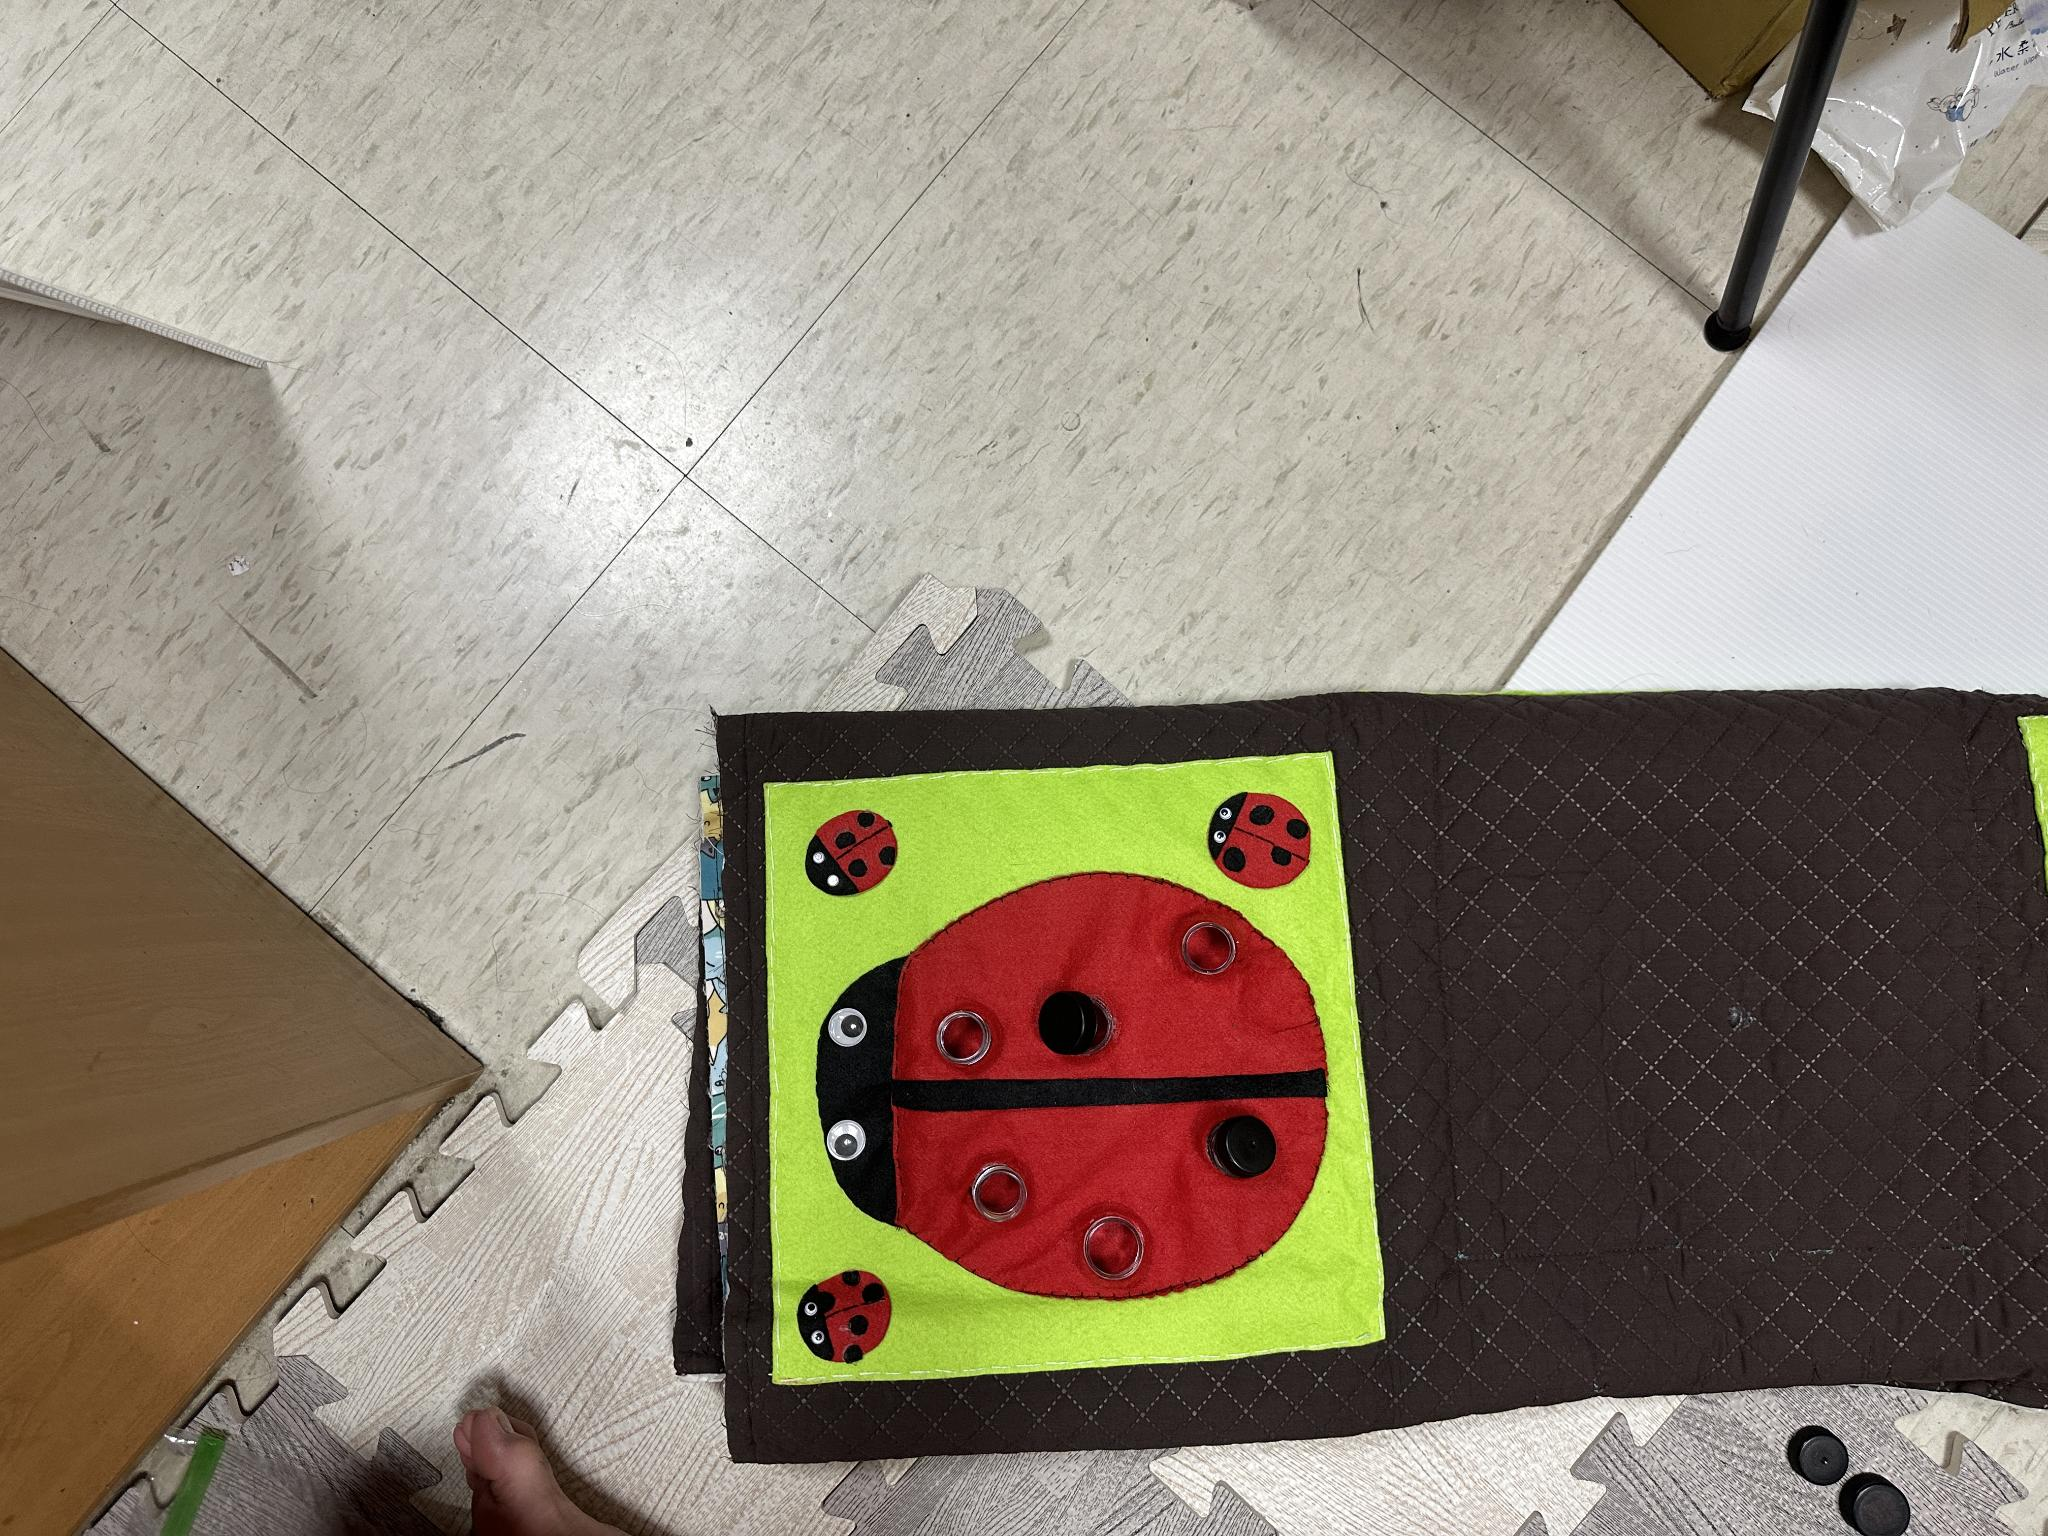cap_ng: (1039, 983, 1126, 1066), (1201, 1107, 1284, 1181)
